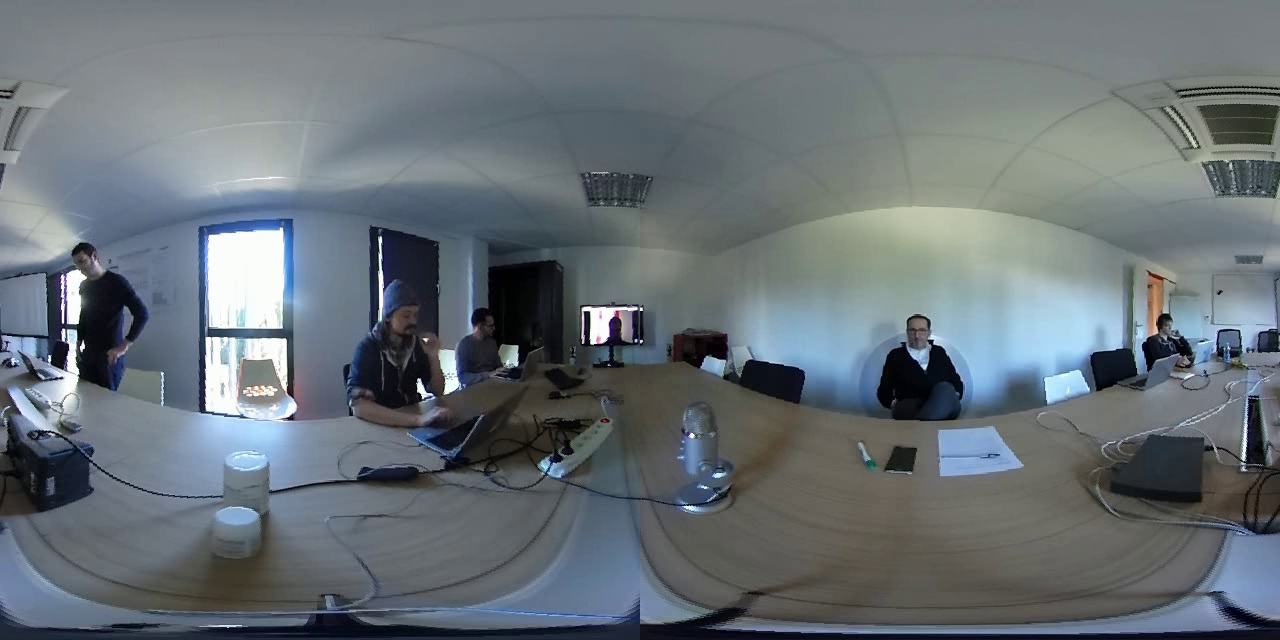person: (343, 276, 444, 422), (873, 306, 970, 419), (59, 237, 141, 362), (453, 304, 513, 377), (1144, 303, 1192, 365), (583, 307, 640, 353)
